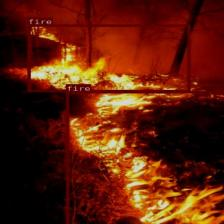fire: (65, 91, 224, 224), (27, 25, 190, 92)
